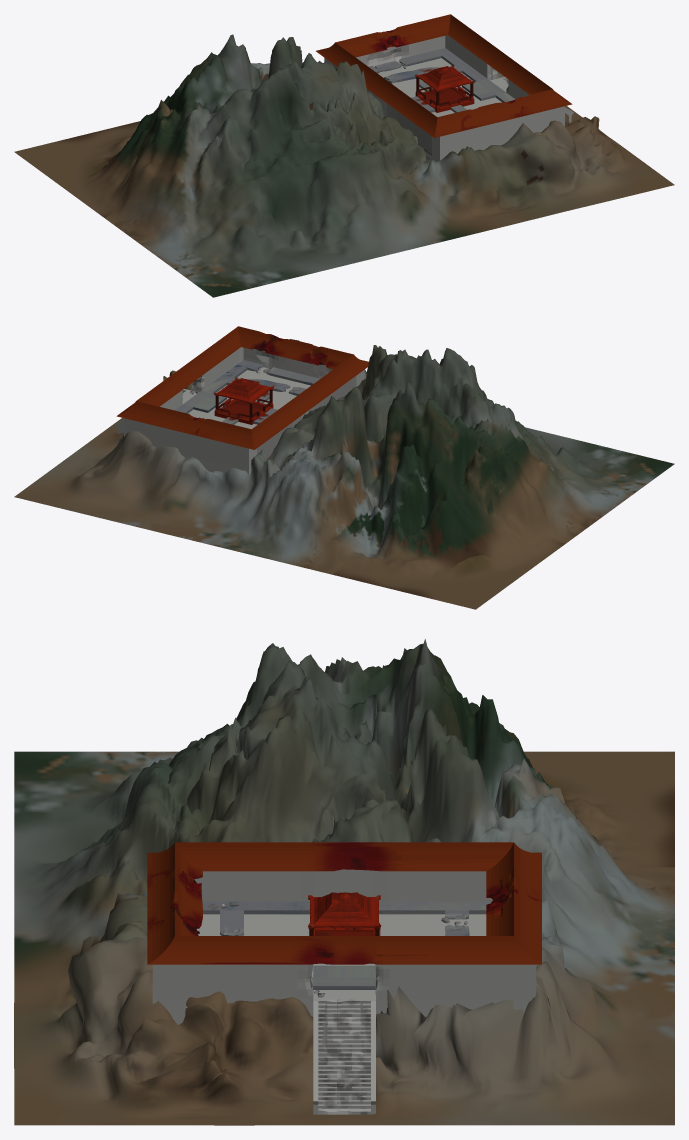
Rendered from Story_env.fbx.
3 views of the same model, one above another, from view 1: azimuth 30°, elevation 25°; view 2: azimuth 150°, elevation 25°; view 3: azimuth 270°, elevation 25° (orthographic). The views are drawn at different scales.
Parts seen in each view (by area): view 1: Mountain, Roof, Stairs + Floor + Foundation, Pavilion, Path; view 2: Mountain, Roof, Stairs + Floor + Foundation, Pavilion, Path; view 3: Mountain, Stairs + Floor + Foundation, Roof, Path, Pavilion.
Boxes of the visible parts, x1,y1,x2,y2 form: Mountain: (14,34,674,297); Roof: (316,14,572,137); Stairs + Floor + Foundation: (324,35,573,161); Pavilion: (384,65,474,112); Path: (368,48,515,102); Mountain: (14,339,674,609); Roof: (116,326,368,449); Stairs + Floor + Foundation: (115,347,364,474); Pavilion: (214,377,305,424); Path: (175,360,320,413); Mountain: (14,639,674,1125); Stairs + Floor + Foundation: (152,869,536,1114); Roof: (147,842,541,964); Path: (196,901,491,989); Pavilion: (220,892,469,935).
Bounding box in the file's own units: 13381 × 3858 × 10003.
